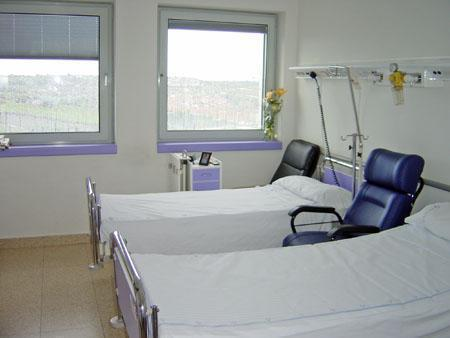Cama: (107, 197, 444, 331), (84, 165, 344, 260)
Ventana: (3, 6, 115, 148), (161, 12, 278, 141)
